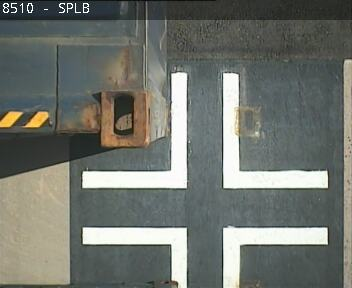groundmarker_1: (80, 73, 327, 190), (82, 226, 329, 287)
